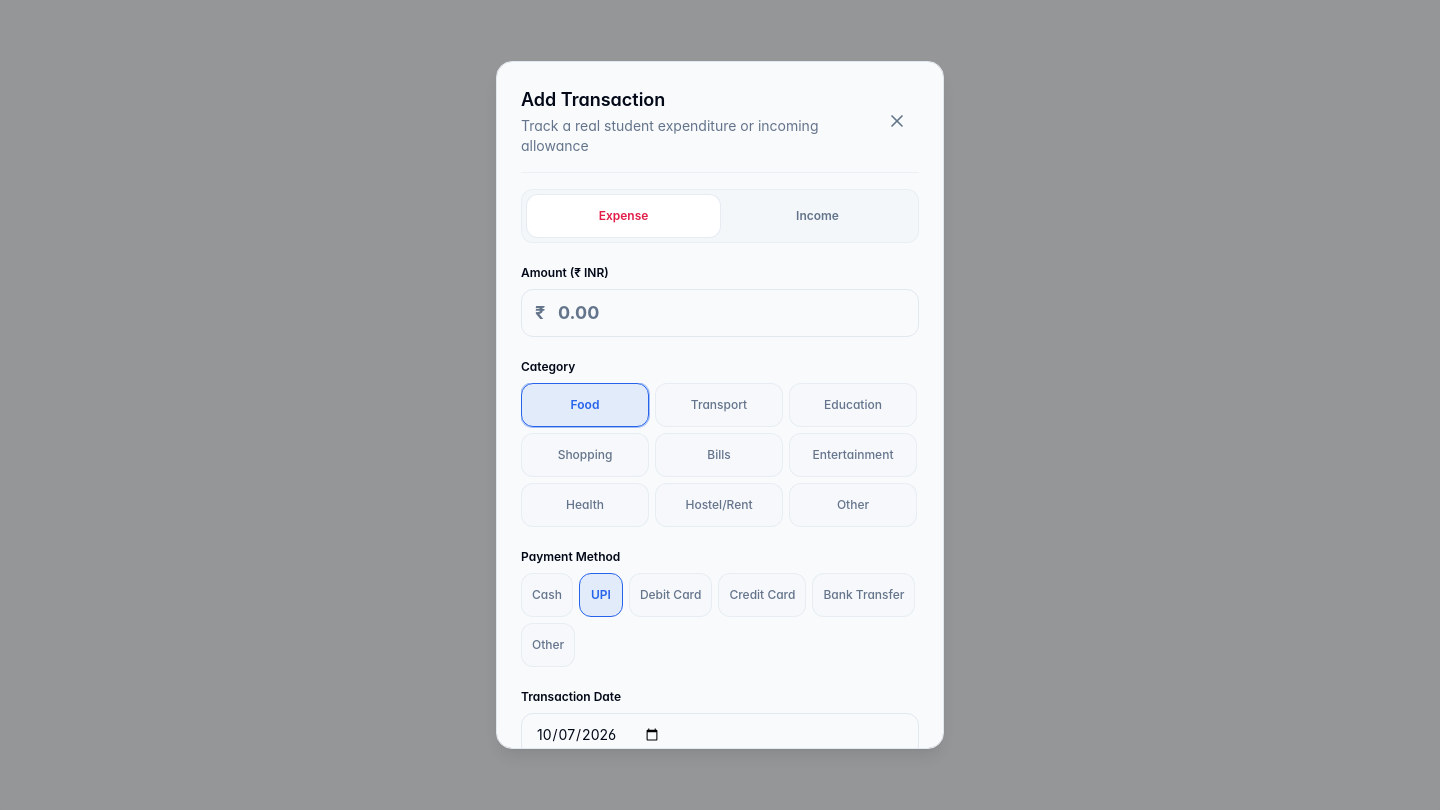
Test case: Phase 2 - Transactions Frontend Suite › 1. TransactionFormSheet › switches between Expense and Income modes and updates category chips
The width and height of the screenshot is (1440, 810).
expect the button "Food" is shown: met, box [521,383,649,427]
expect the button "Transport" is shown: met, box [655,383,783,427]
# Click Income tab
Click the button "Income".
click(818, 216)  # box [721,194,914,238]
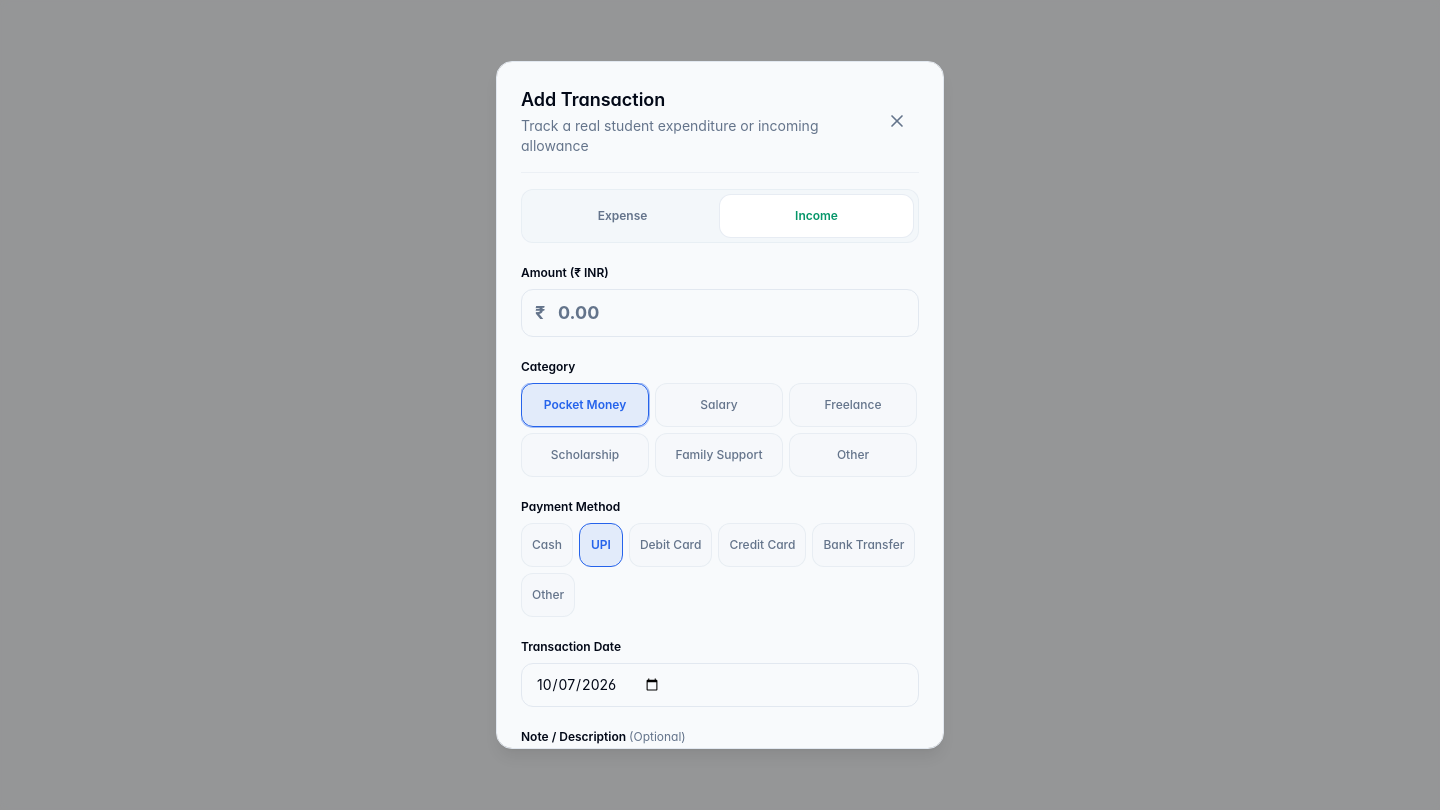
expect the button "Pocket Money" is shown: met, box [521,383,649,427]
expect the button "Salary" is shown: met, box [655,383,783,427]
expect the button "Transport" is gone: met
